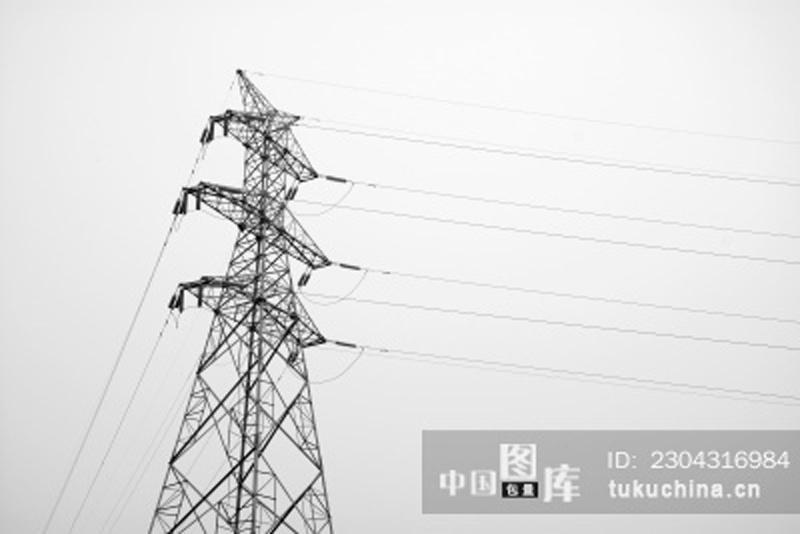power_tower: (144, 67, 364, 534)
